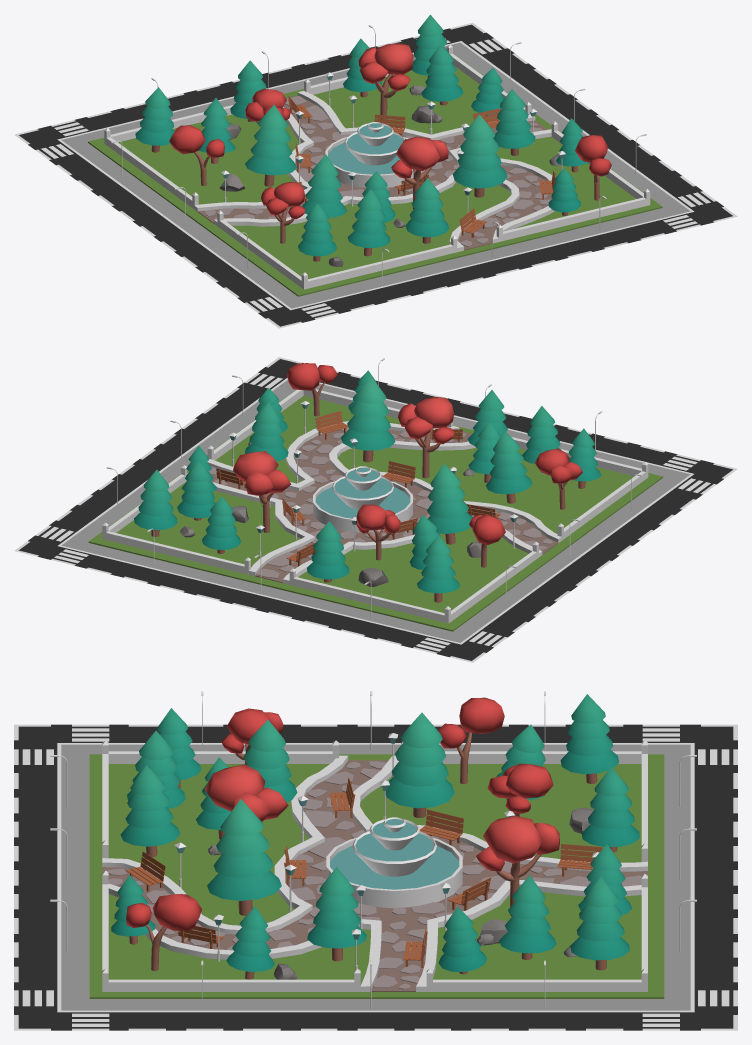
Rendered from ParkArea.fbx.
3 views of the same model, one above another, from view 1: azimuth 30°, elevation 25°; view 2: azimuth 150°, elevation 25°; view 3: azimuth 270°, elevation 25° (orthographic). The views are drawn at different scales.
Parts seen in each view (by area): view 1: ParkArea; view 2: ParkArea; view 3: ParkArea.
Boxes of the visible parts, x1,y1,x2,y2 form: ParkArea: [14, 14, 737, 328]; ParkArea: [14, 357, 737, 662]; ParkArea: [14, 691, 737, 1030].
Bounding box in the file's own units: 1000 × 188 × 1000.
Materials: 1 (1 with a texture image).
